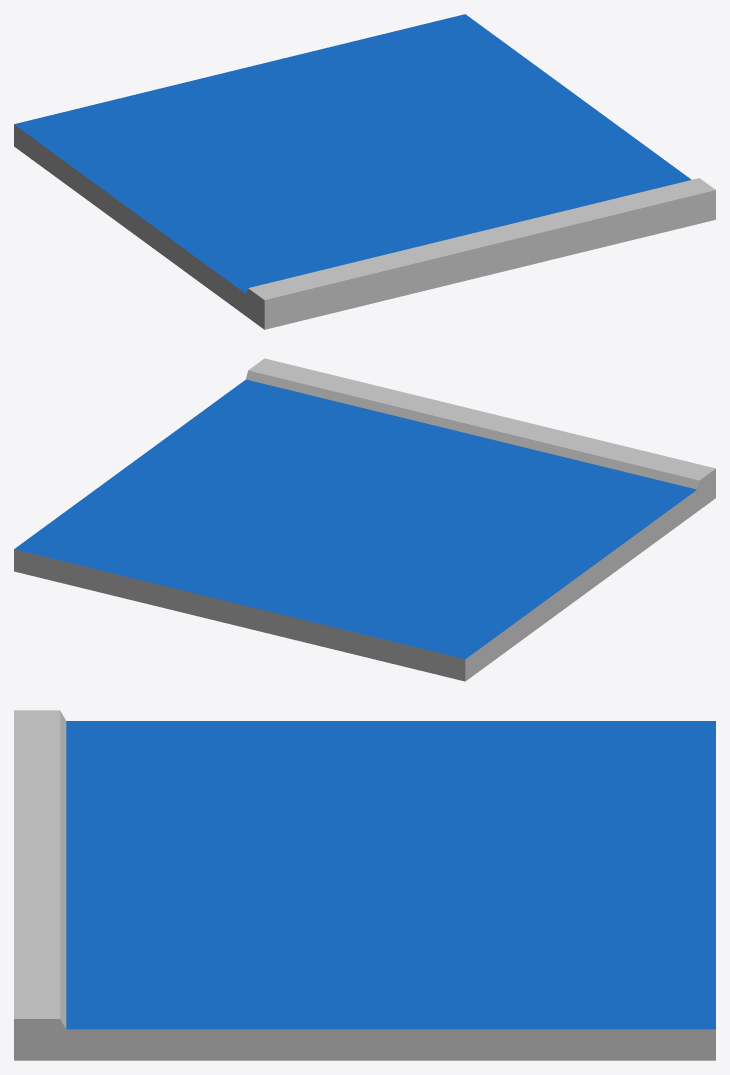
Rendered from SM_sidewalk_7.fbx.
3 renders of one model, top to bottom at view 1: azimuth 30°, elevation 25°; view 2: azimuth 150°, elevation 25°; view 3: azimuth 270°, elevation 25°, orthographic. The views are drawn at different scales.
Visible parts, largest first — view 1: Cube_23; view 2: Cube_23; view 3: Cube_23.
Boxes of the visible parts, x1,y1,x2,y2 form: Cube_23: (14,14,715,329); Cube_23: (14,358,715,681); Cube_23: (14,710,715,1060).
Size of the model in its own units: 250 by 15.7 by 240.
